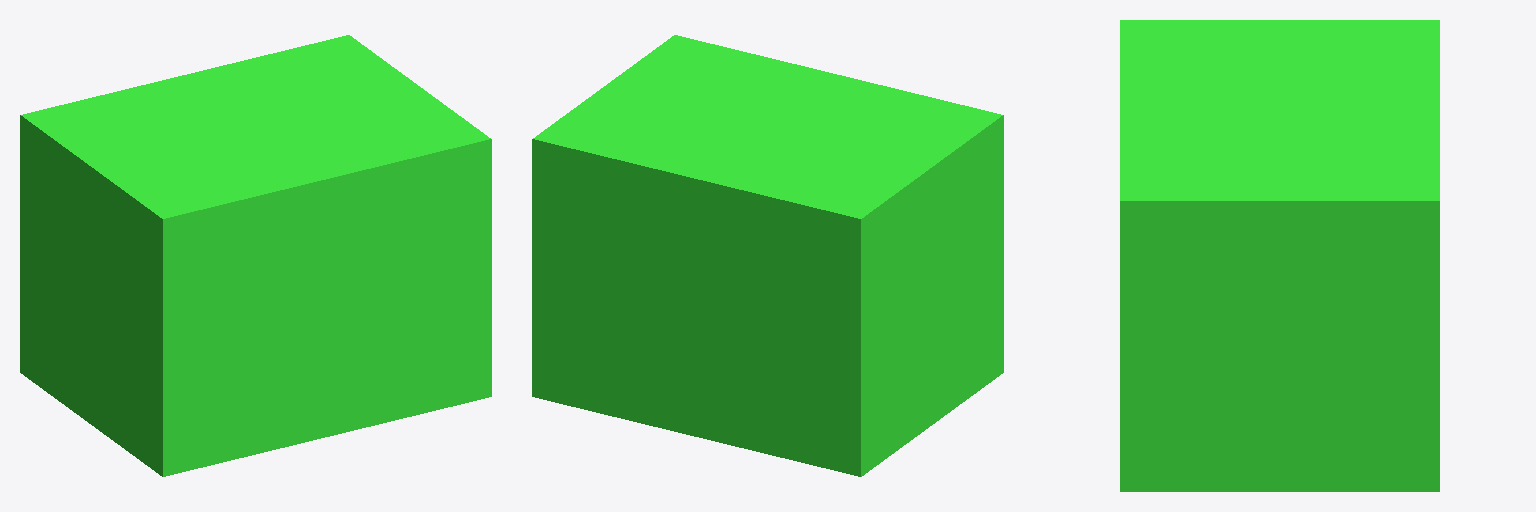
robot.urdf — CubeLifeSize_v2_60_80:
<robot name="CubeLifeSize_v2_60_80">
	<link name="object">
		<visual>
			<origin rpy="0.0 0.0 0.0" xyz="0.0 0.0 -0.6" />
			<geometry>
				<mesh filename="CubeLifeSize_v2_60_80/CubeLifeSize_v2_60_80.obj" scale="0.02 0.02 0.02" />
			</geometry>
			<material name="texture">
				<color rgba="0.3 1.0 0.3 1.0" />
			</material>
		</visual>
		<collision>
			<origin rpy="0.0 0.0 0.0" xyz="0.0 0.0 -0.6" />
			<geometry>
				<mesh filename="CubeLifeSize_v2_60_80/CubeLifeSize_v2_60_80_vhacd.obj" scale="0.02 0.02 0.02" />
			</geometry>
		</collision>
		<inertial>
			<mass value="0.020" />
			<inertia ixx="1.0" ixy="0.0" ixz="0.0" iyy="1.0" iyz="0.0" izz="1.0" />
		</inertial>
	</link>
</robot>

--- Facts derived from the render (not from the file) ---
3 views of the same robot in one strip: view 1: azimuth 30°, elevation 25°; view 2: azimuth 150°, elevation 25°; view 3: azimuth 270°, elevation 25° (orthographic).
Model CubeLifeSize_v2_60_80 with 1 links and 0 joints (none), rooted at object, posed all joints at 0.
Links seen in each view (by area): view 1: object; view 2: object; view 3: object.
Link boxes in pixels (<box>): object: <box>20,35,491,476</box>; object: <box>532,35,1003,476</box>; object: <box>1120,20,1439,491</box>.
Size in the robot's own frame: 1.6 by 1.2 by 1.2 metres.
1 mesh visuals loaded from 1 distinct referenced files (1 OBJ).